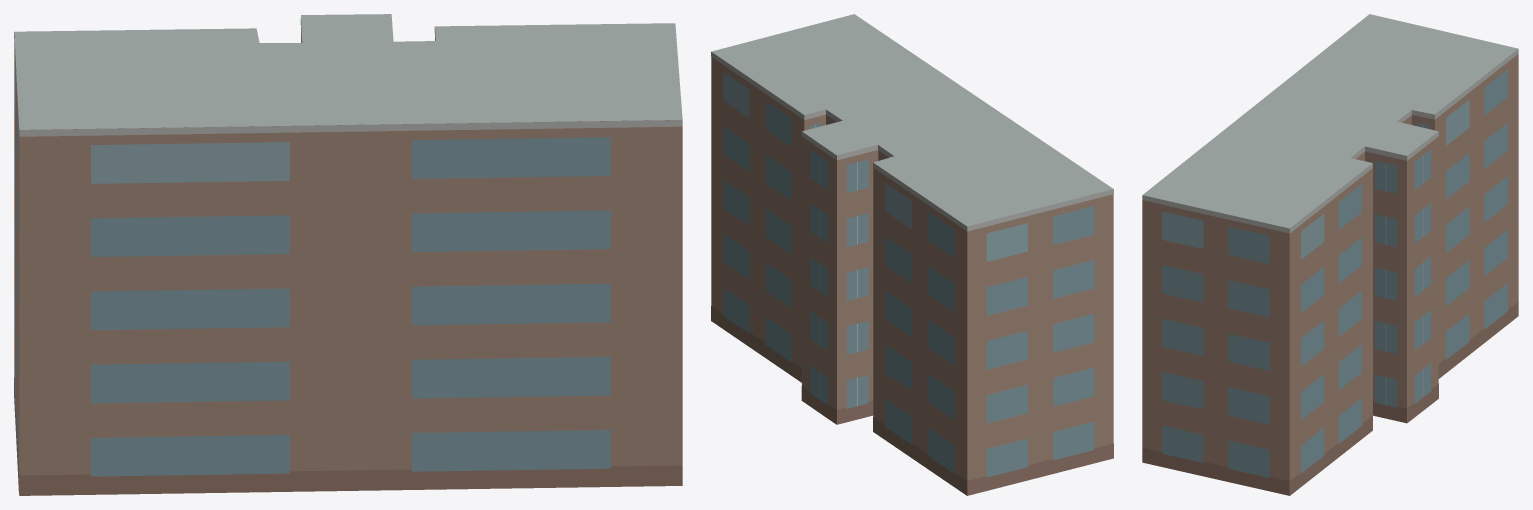
The model's file is survey-upis-32877783.glb.
3 views of the same model, side by side, from view 1: azimuth 30°, elevation 25°; view 2: azimuth 150°, elevation 25°; view 3: azimuth 270°, elevation 25° (orthographic). The views are drawn at different scales.
Visible parts, largest first — view 1: survey-upis-32877783.tmp; view 2: survey-upis-32877783.tmp; view 3: survey-upis-32877783.tmp.
Boxes of the visible parts, box(x1,y1,x2,y2) form: survey-upis-32877783.tmp: box(14, 14, 682, 495); survey-upis-32877783.tmp: box(711, 14, 1113, 495); survey-upis-32877783.tmp: box(1142, 14, 1518, 495).
Size of the model in its own units: 22.55 by 13.1 by 16.72.
